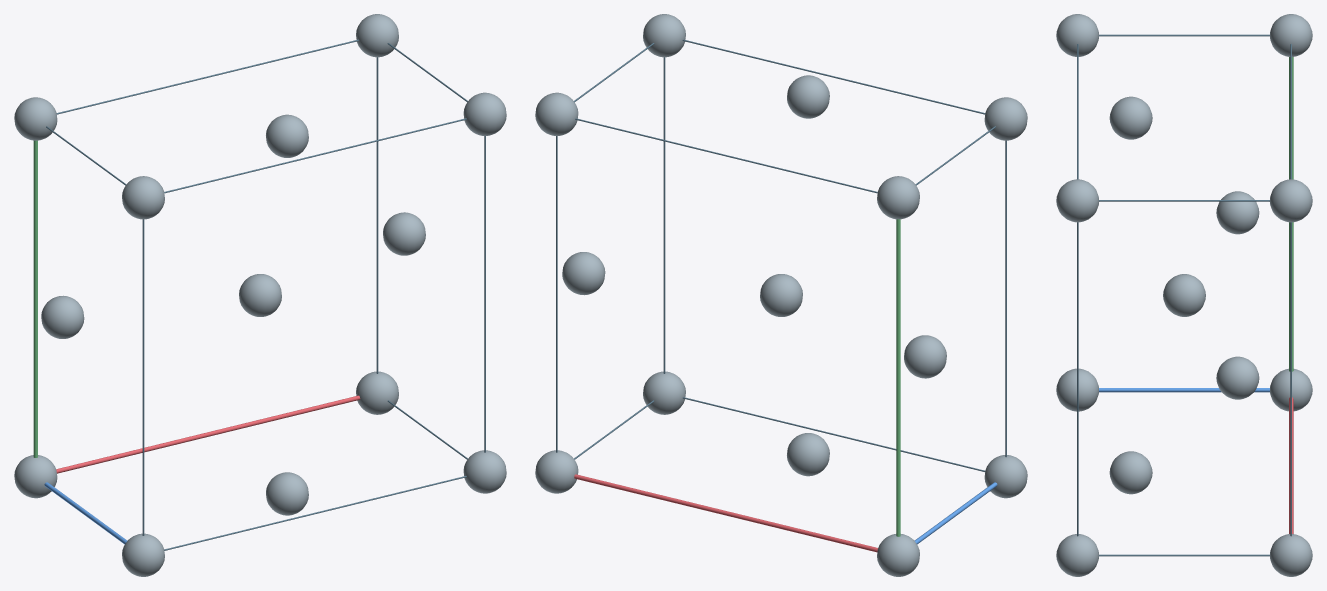
File: nguyen-to-sn.glb
3 views of the same model, side by side, from view 1: azimuth 30°, elevation 25°; view 2: azimuth 150°, elevation 25°; view 3: azimuth 270°, elevation 25° (orthographic).
Visible parts, largest first — view 1: Sn · Sn · 1 (×13), Ô mạng và các trục a, b, c; view 2: Sn · Sn · 1 (×13), Ô mạng và các trục a, b, c; view 3: Sn · Sn · 1 (×13), Ô mạng và các trục a, b, c.
Part boxes in pixels (x1,y1,x2,y2): Sn · Sn · 1 (×13): (14,14,506,576); Ô mạng và các trục a, b, c: (33,39,485,550); Sn · Sn · 1 (×13): (535,14,1027,576); Ô mạng và các trục a, b, c: (556,39,1006,552); Sn · Sn · 1 (×13): (1056,14,1312,576); Ô mạng và các trục a, b, c: (1077,34,1293,556).
Size of the model in its own units: 6.46 by 6.46 by 3.81.
